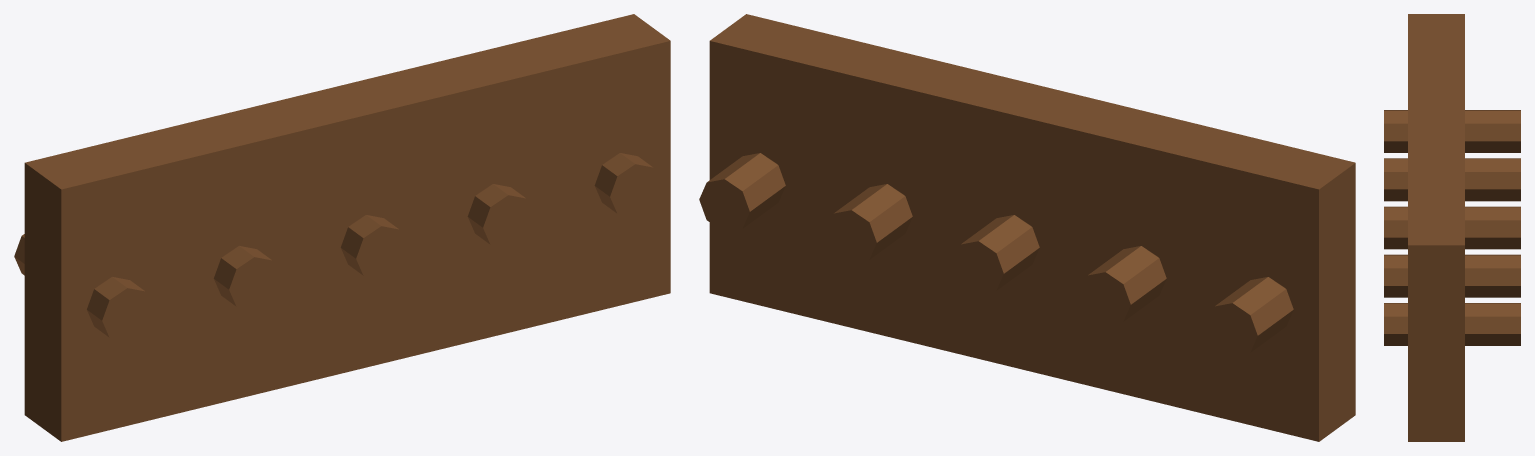
The model's file is SM_LorienRootBridge.obj.
The picture shows the model from 3 angles, left to right: view 1: azimuth 30°, elevation 25°; view 2: azimuth 150°, elevation 25°; view 3: azimuth 270°, elevation 25°; orthographic projection. The views are drawn at different scales.
Visible parts, largest first — view 1: SM_LorienRootBridge; view 2: SM_LorienRootBridge; view 3: SM_LorienRootBridge.
Part boxes in pixels (<box>): SM_LorienRootBridge: <box>14,14,670,441</box>; SM_LorienRootBridge: <box>699,14,1355,441</box>; SM_LorienRootBridge: <box>1384,14,1520,441</box>.
Bounding box in the file's own units: 240 × 95 × 60.
